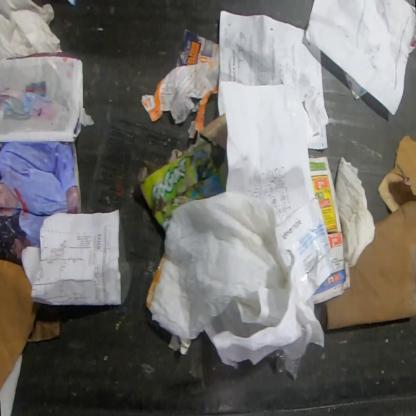cardboard: (321, 199, 416, 332), (136, 113, 228, 233), (0, 259, 42, 398), (376, 134, 415, 214)
soft_plastic: (145, 191, 326, 371), (266, 350, 302, 381)
